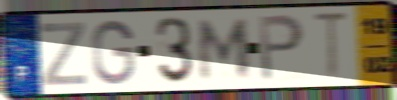3: (153, 16, 196, 87)
G: (90, 18, 137, 87)
M: (197, 18, 252, 83)
P: (256, 13, 306, 84)
T: (311, 11, 352, 83)
Z: (39, 19, 88, 87)
